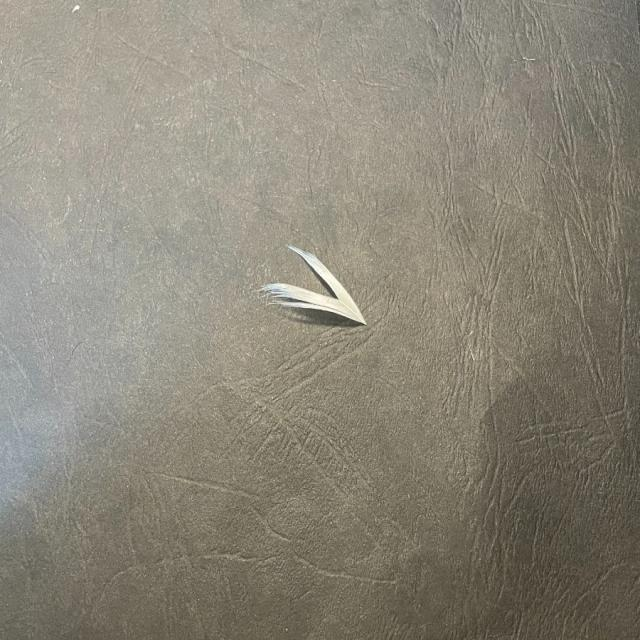feather: (252, 238, 368, 329)
